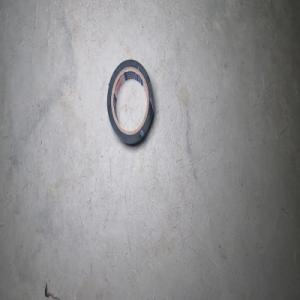Tape: (106, 59, 154, 145)
